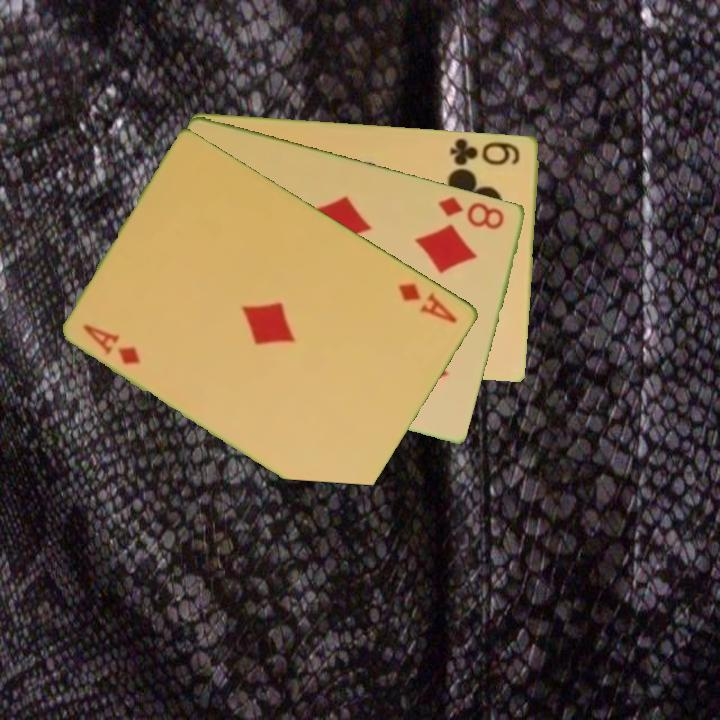6c: (446, 134, 524, 168)
8d: (435, 192, 508, 232)
Ad: (79, 320, 145, 368), (395, 279, 461, 326)
